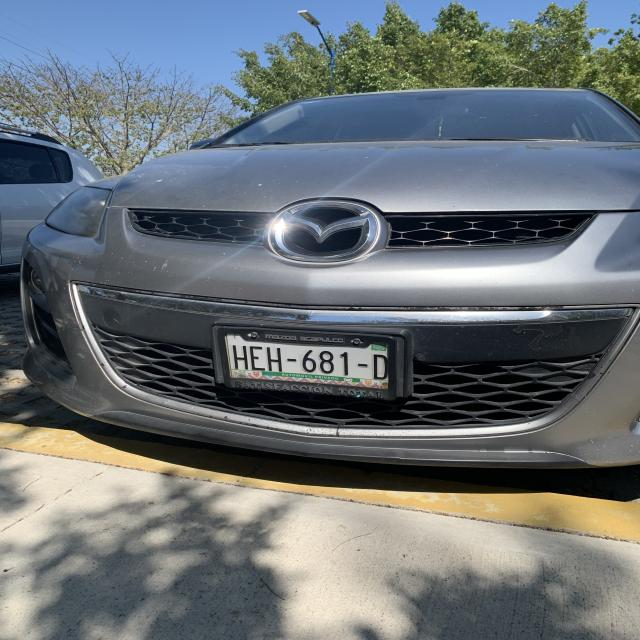placa: (221, 339, 400, 381)
